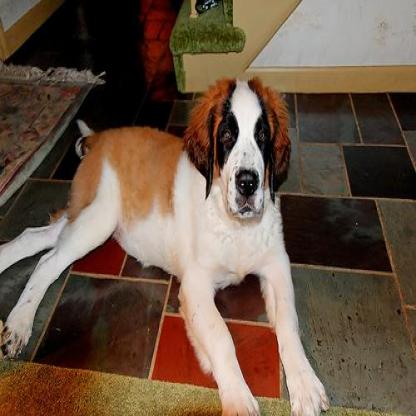Saint_Bernard: (0, 73, 327, 414)
